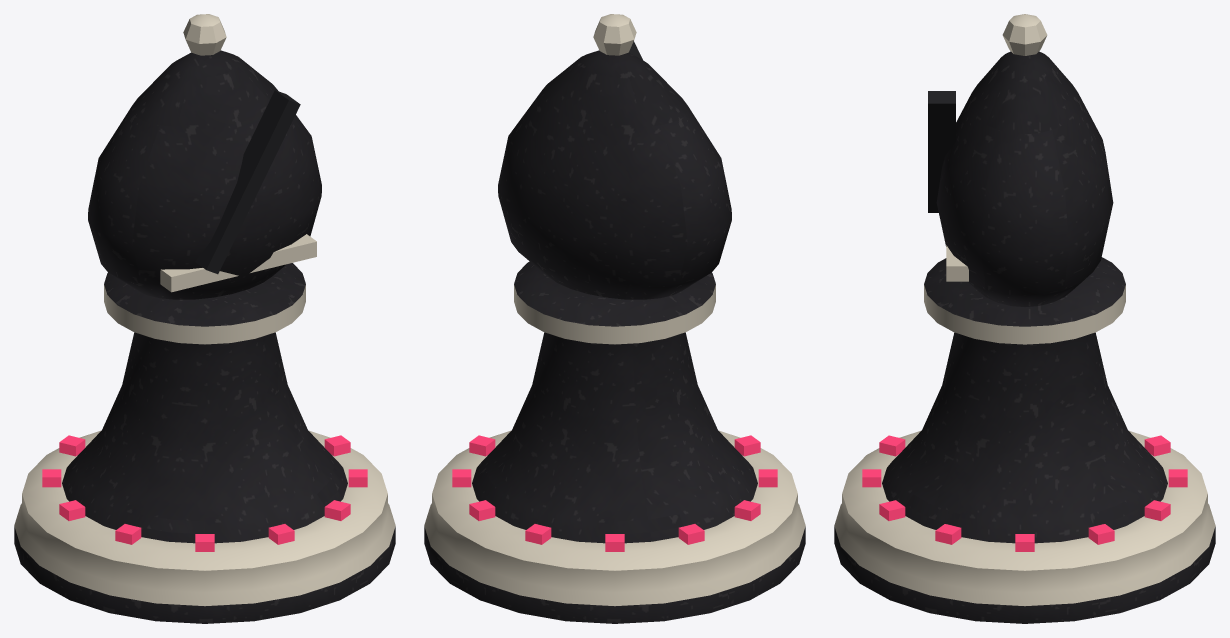
The model's file is bishop_dark.glb.
3 views of the same model, side by side, from view 1: azimuth 30°, elevation 25°; view 2: azimuth 150°, elevation 25°; view 3: azimuth 270°, elevation 25° (orthographic).
Parts seen in each view (by area): view 1: Piece_Bishop_Dark_Mesh; view 2: Piece_Bishop_Dark_Mesh; view 3: Piece_Bishop_Dark_Mesh.
Boxes of the visible parts, left/top/right/bottom form: Piece_Bishop_Dark_Mesh: left=14, top=14, right=395, bottom=623; Piece_Bishop_Dark_Mesh: left=424, top=14, right=805, bottom=623; Piece_Bishop_Dark_Mesh: left=834, top=14, right=1215, bottom=623.
Bounding box in the file's own units: 0.68 × 1.04 × 0.68.
4 materials, 1 textured.
